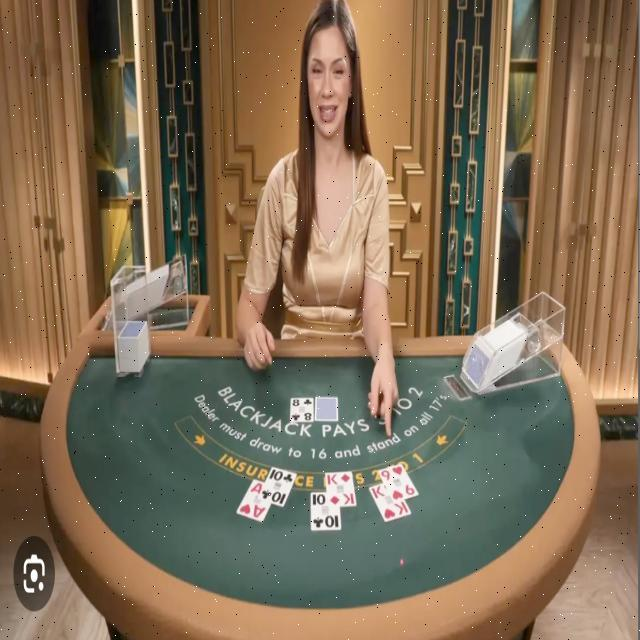Card-10: (262, 464, 297, 505), (311, 490, 341, 529)
Card-8: (289, 394, 313, 421)
Card-9: (379, 463, 418, 503)
Card-A: (236, 477, 271, 521)
Card-K: (370, 482, 411, 521), (325, 469, 357, 506)
